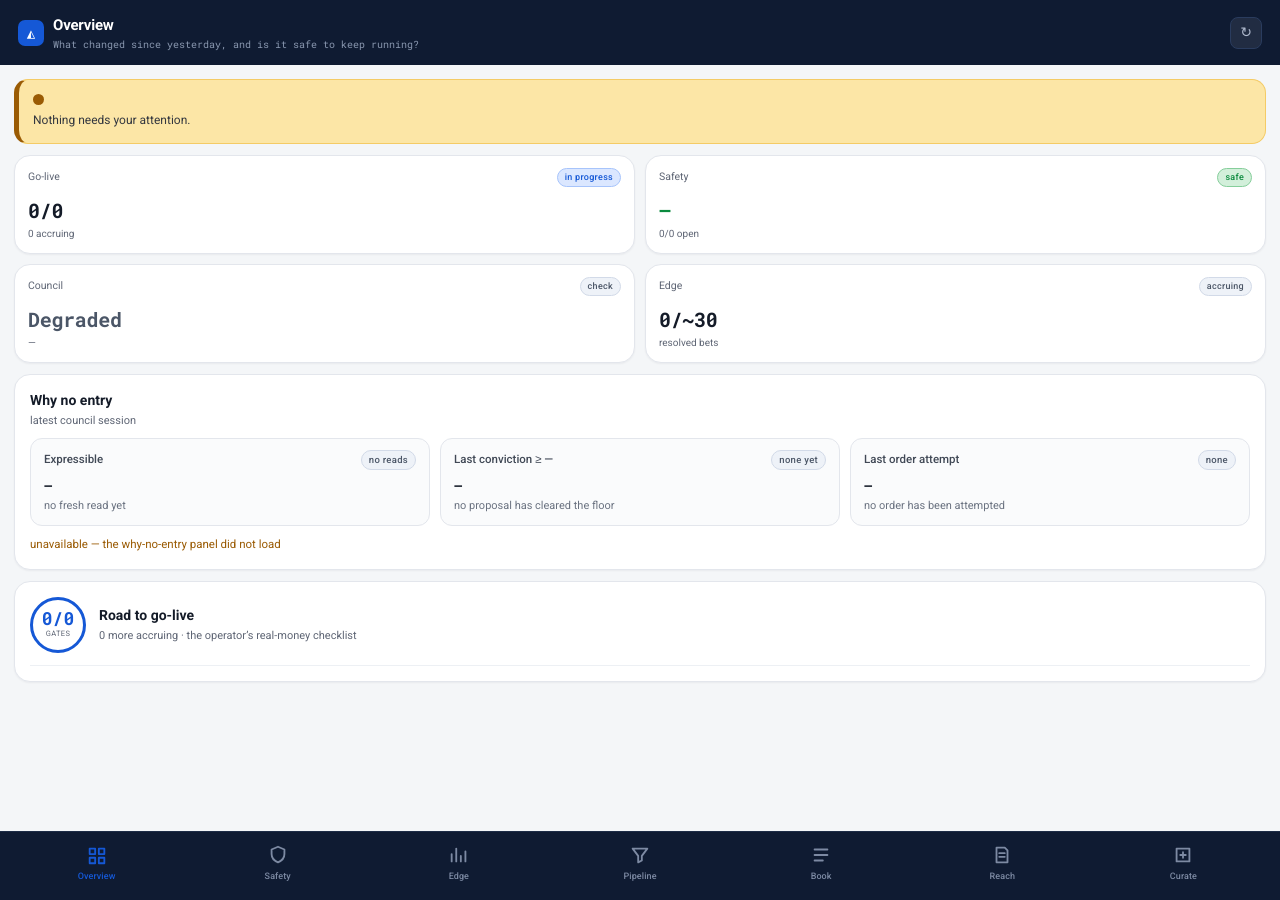
book value leads, broker equity is secondary › mobile Safety shows the same label
Click the tab "Safety" at (278, 863), box 187,840 -> 368,886
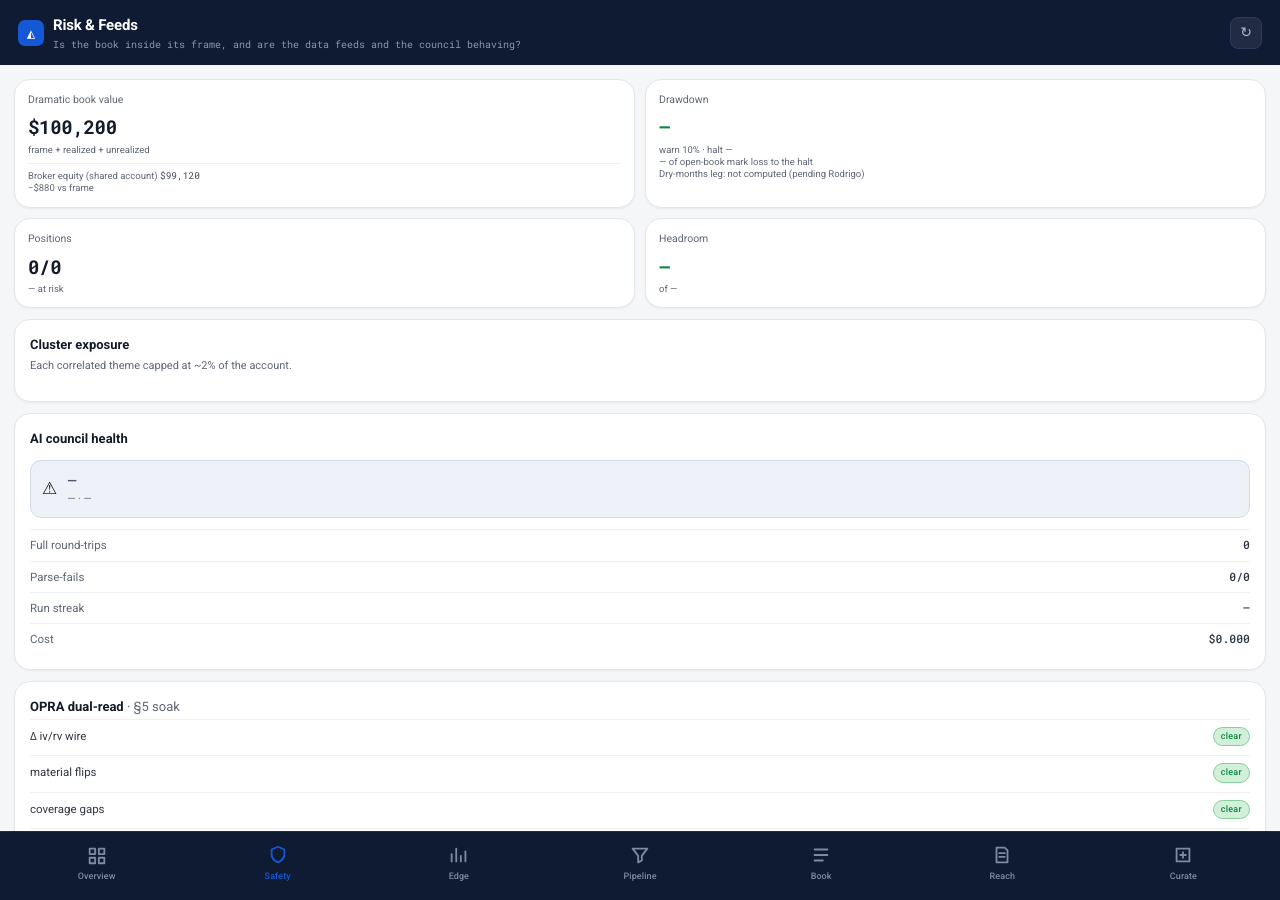
Expected: the text "Dramatic book value" is shown, 28,92 -> 123,106
Expected: the text "$100,200" is shown, 28,114 -> 117,139
Expected: the text "Broker equity (shared account) $99,120 −$880 vs frame" is shown, 28,163 -> 621,195
